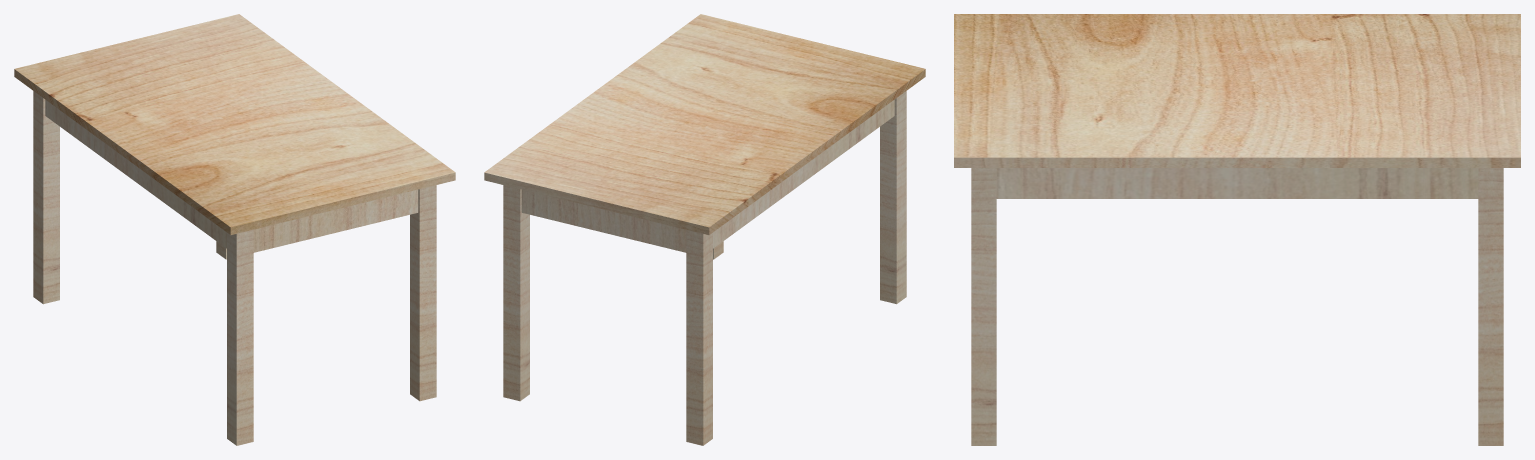
File: OakTable.FBX
The picture shows the model from 3 angles, left to right: view 1: azimuth 30°, elevation 25°; view 2: azimuth 150°, elevation 25°; view 3: azimuth 270°, elevation 25°; orthographic projection. The views are drawn at different scales.
Parts seen in each view (by area): view 1: deskWorn; view 2: deskWorn; view 3: deskWorn.
Boxes of the visible parts, x1,y1,x2,y2 form: deskWorn: (14,14,455,445); deskWorn: (484,14,925,445); deskWorn: (954,14,1520,445).
Size of the model in its own units: 0.75 by 0.7213 by 1.25.
1 material, 1 textured.
